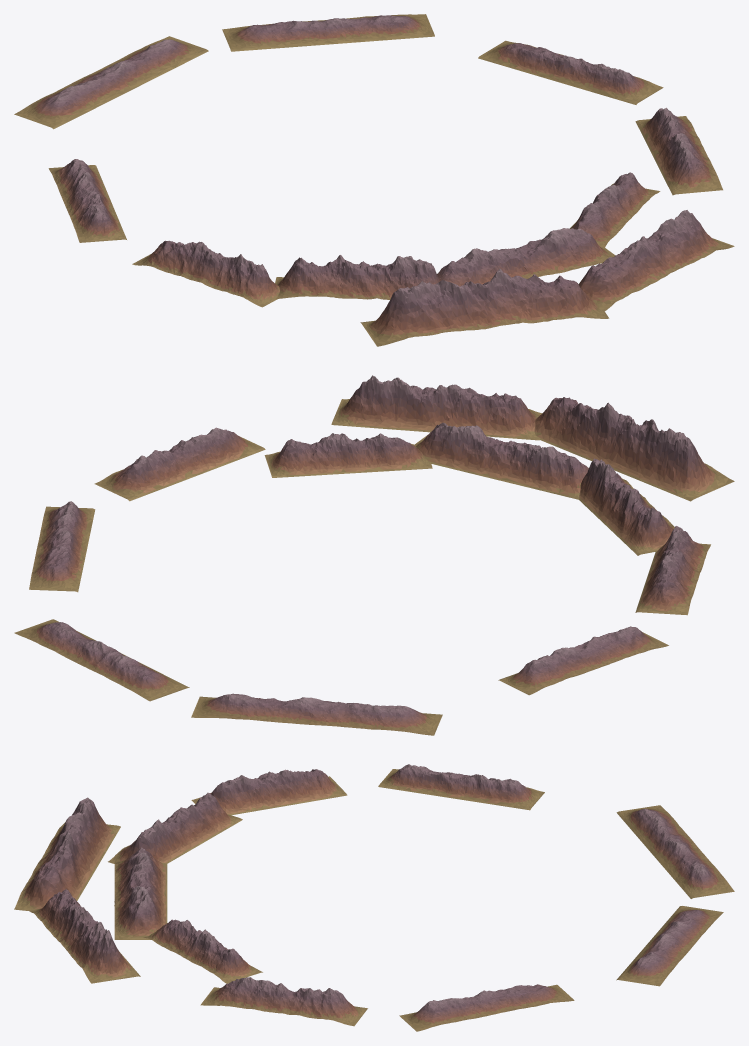
Rendered from sierra.glb.
The picture shows the model from 3 angles, top to bottom: view 1: azimuth 30°, elevation 25°; view 2: azimuth 150°, elevation 25°; view 3: azimuth 270°, elevation 25°; orthographic projection. The views are drawn at different scales.
Visible parts, largest first — view 1: sierra; view 2: sierra; view 3: sierra.
Part boxes in pixels (x1,y1,x2,y2): sierra: (14,14,734,346); sierra: (14,375,734,735); sierra: (14,764,734,1031).
Bounding box in the file's own units: 1997 × 155 × 2314.
